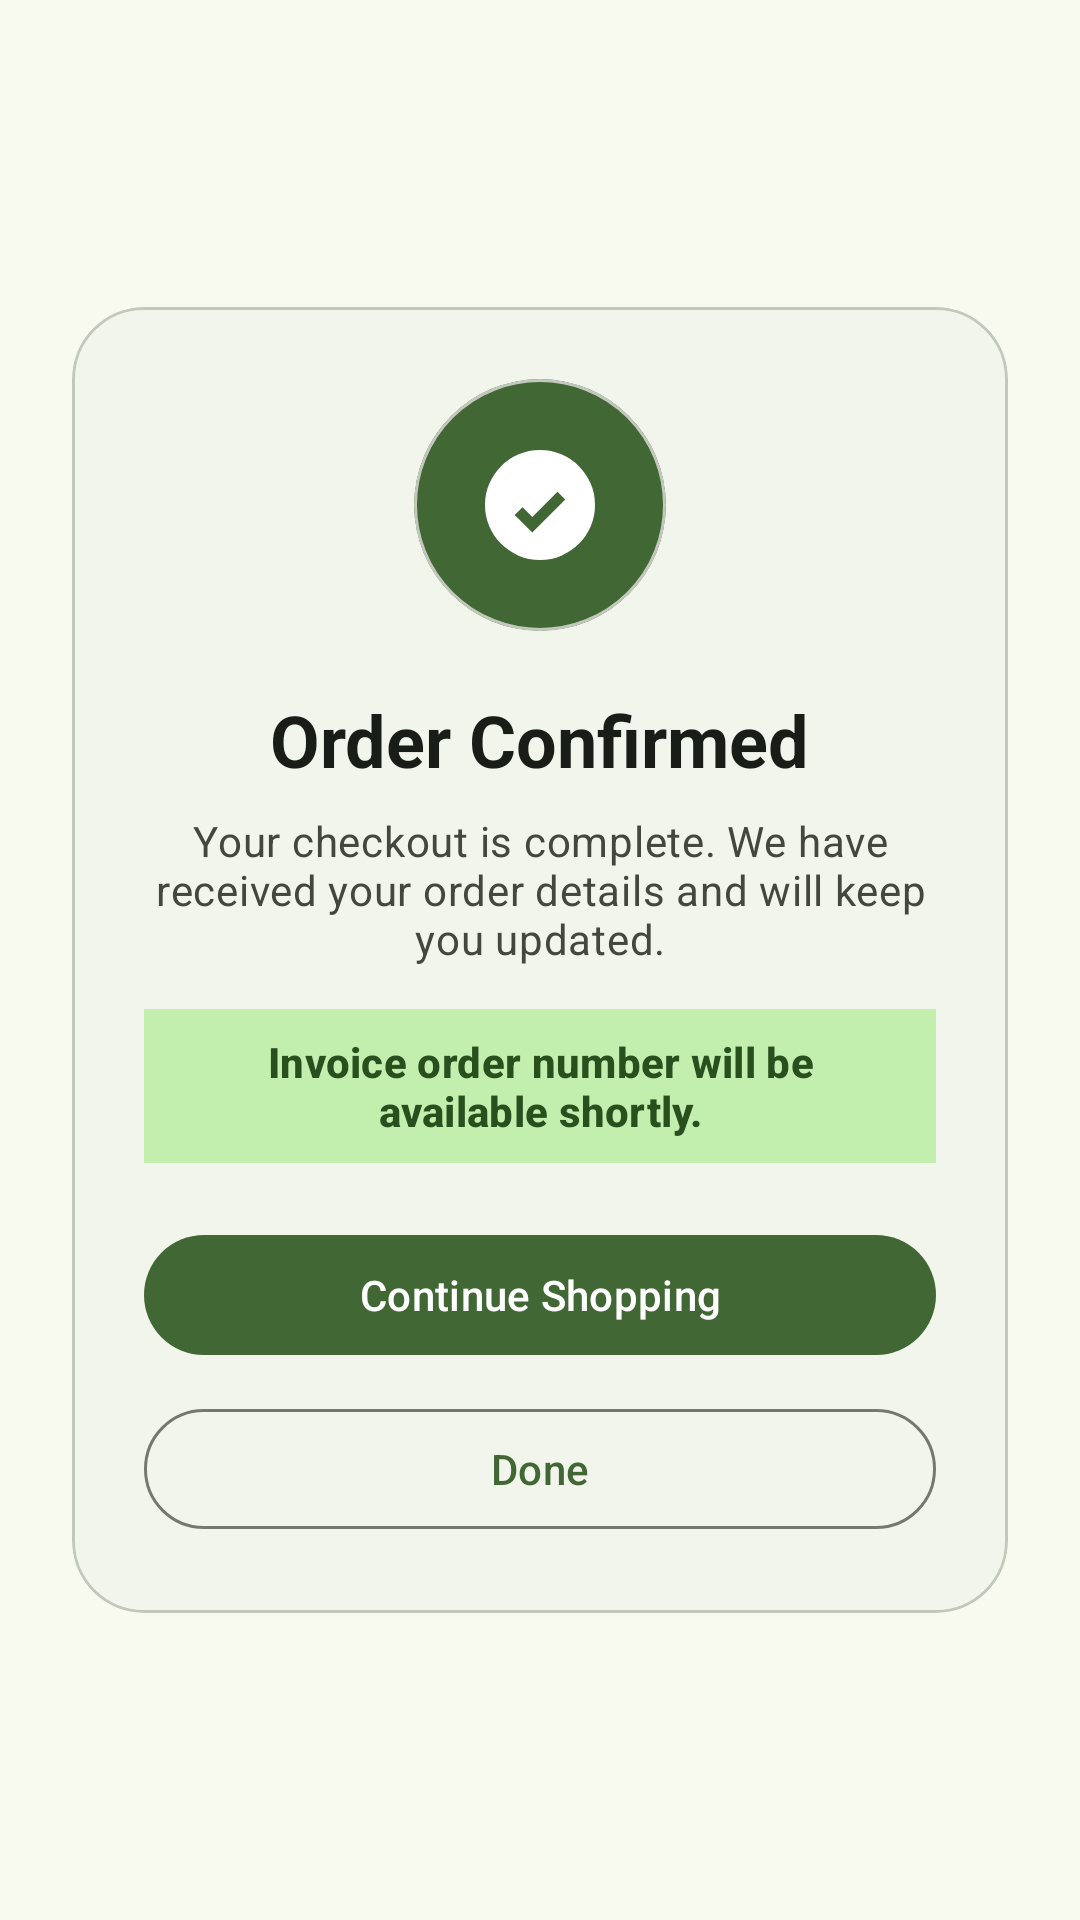

Where icons sit on this 1080x1920 app screen, as (x1, y1, x2, y2):
Checkout success: (414, 379, 666, 631)
